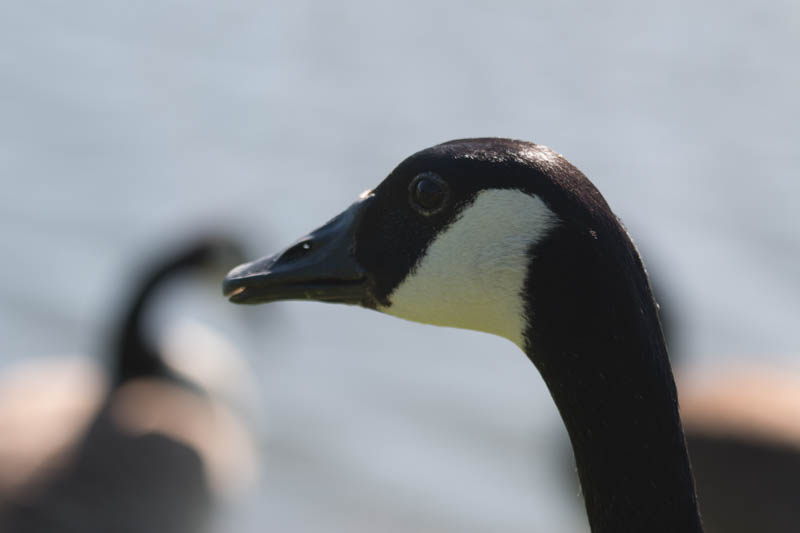goose-head: (221, 137, 660, 356)
